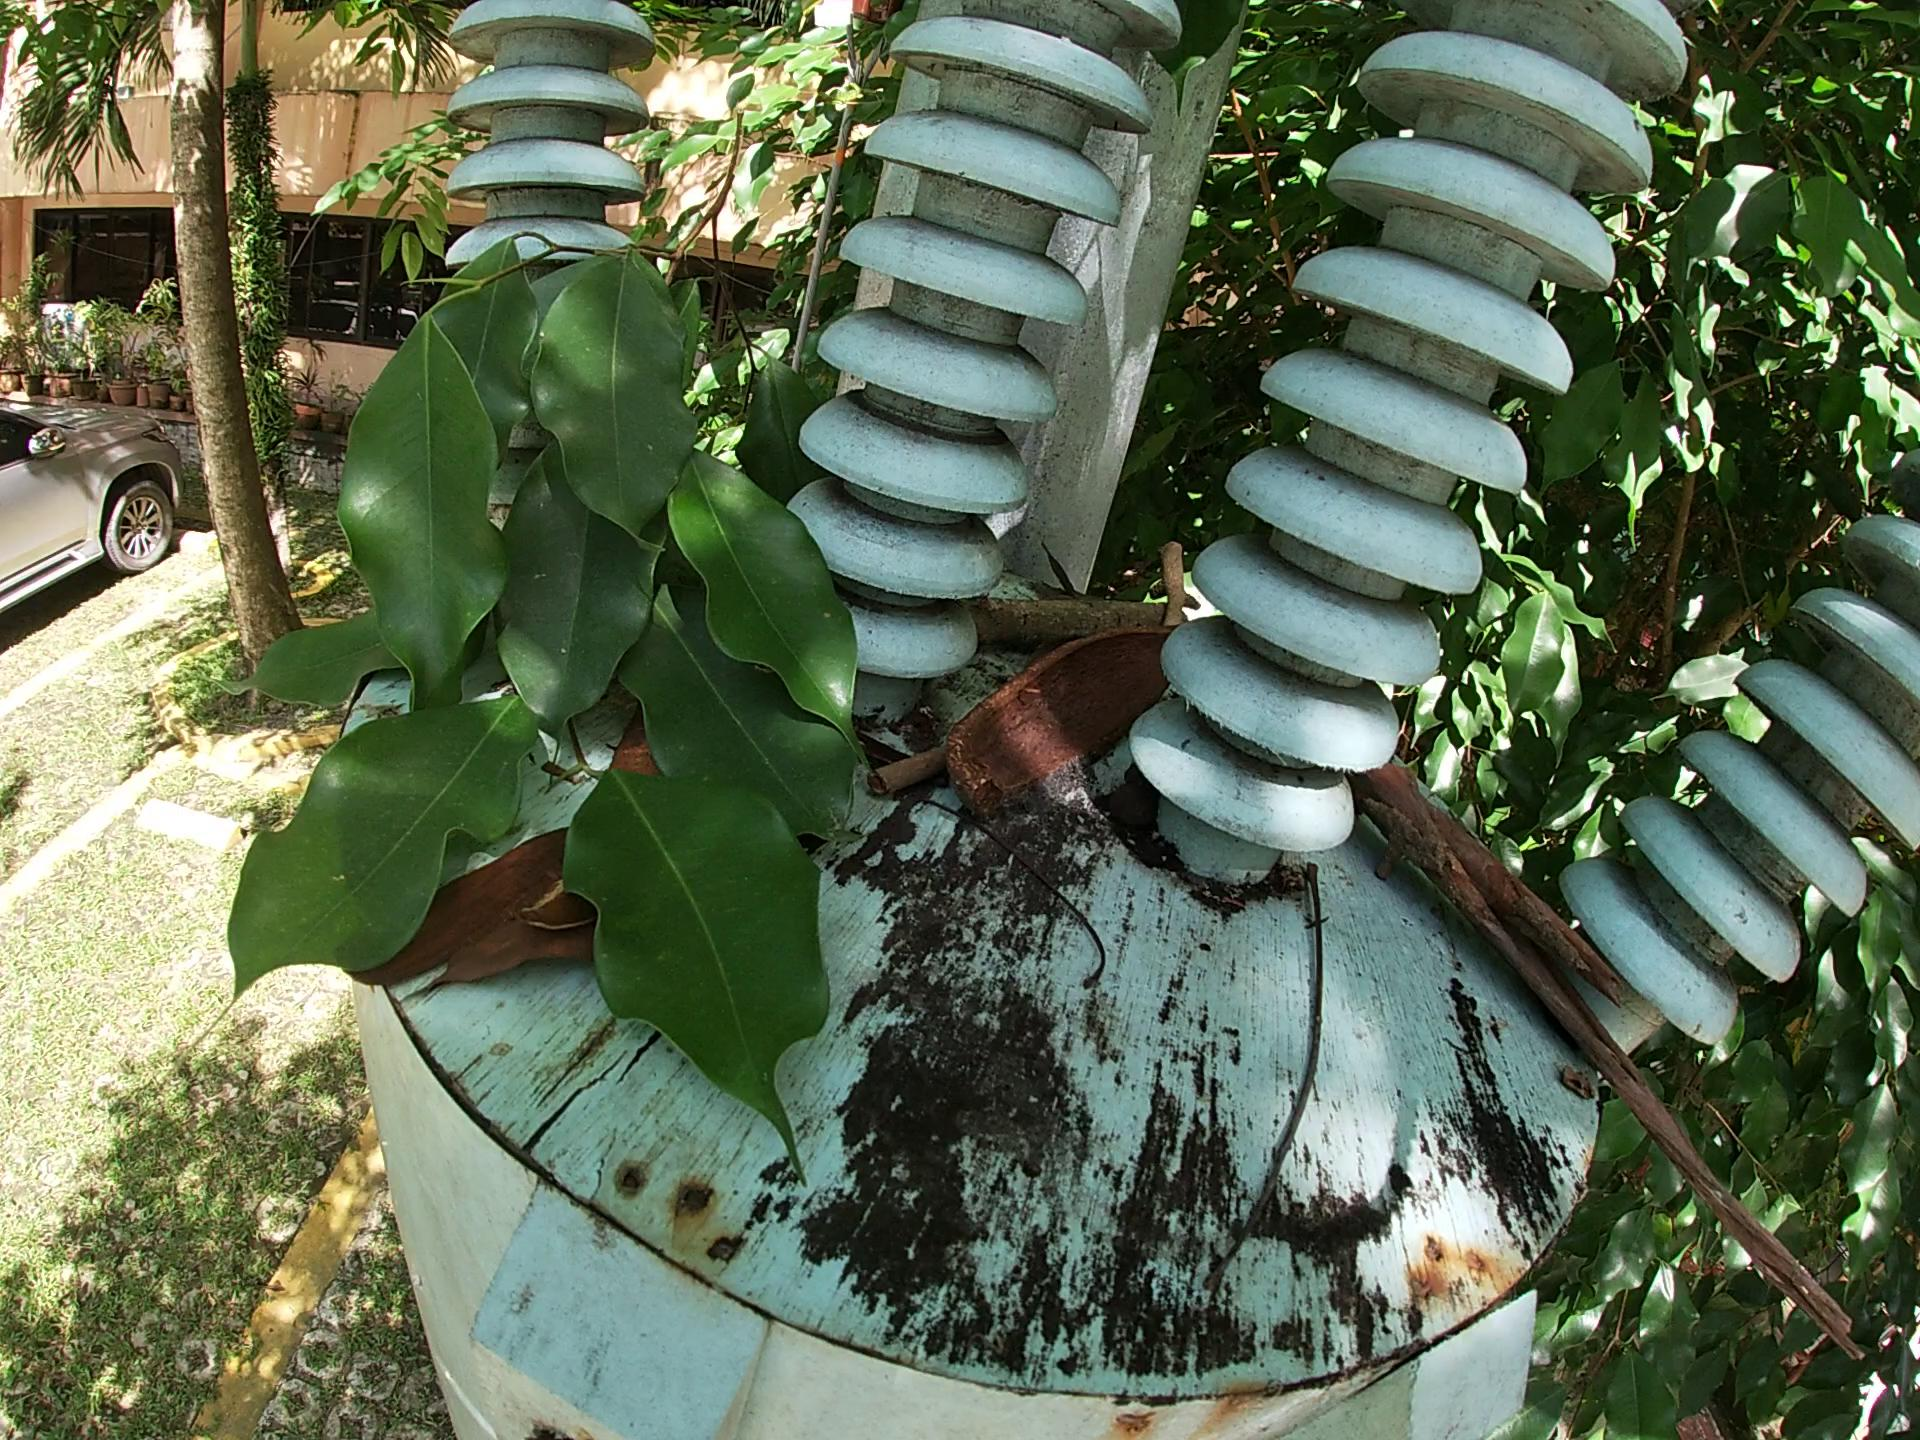branch with leaves: (184, 119, 859, 1203)
leaf: (419, 902, 615, 1024), (608, 728, 667, 799)
mahogany fruit: (919, 625, 1197, 818), (351, 836, 571, 979)
tree branch: (1356, 761, 1875, 1376), (1194, 853, 1342, 1296), (915, 796, 1120, 992), (955, 590, 1157, 664), (850, 755, 940, 811), (1150, 534, 1181, 634)
